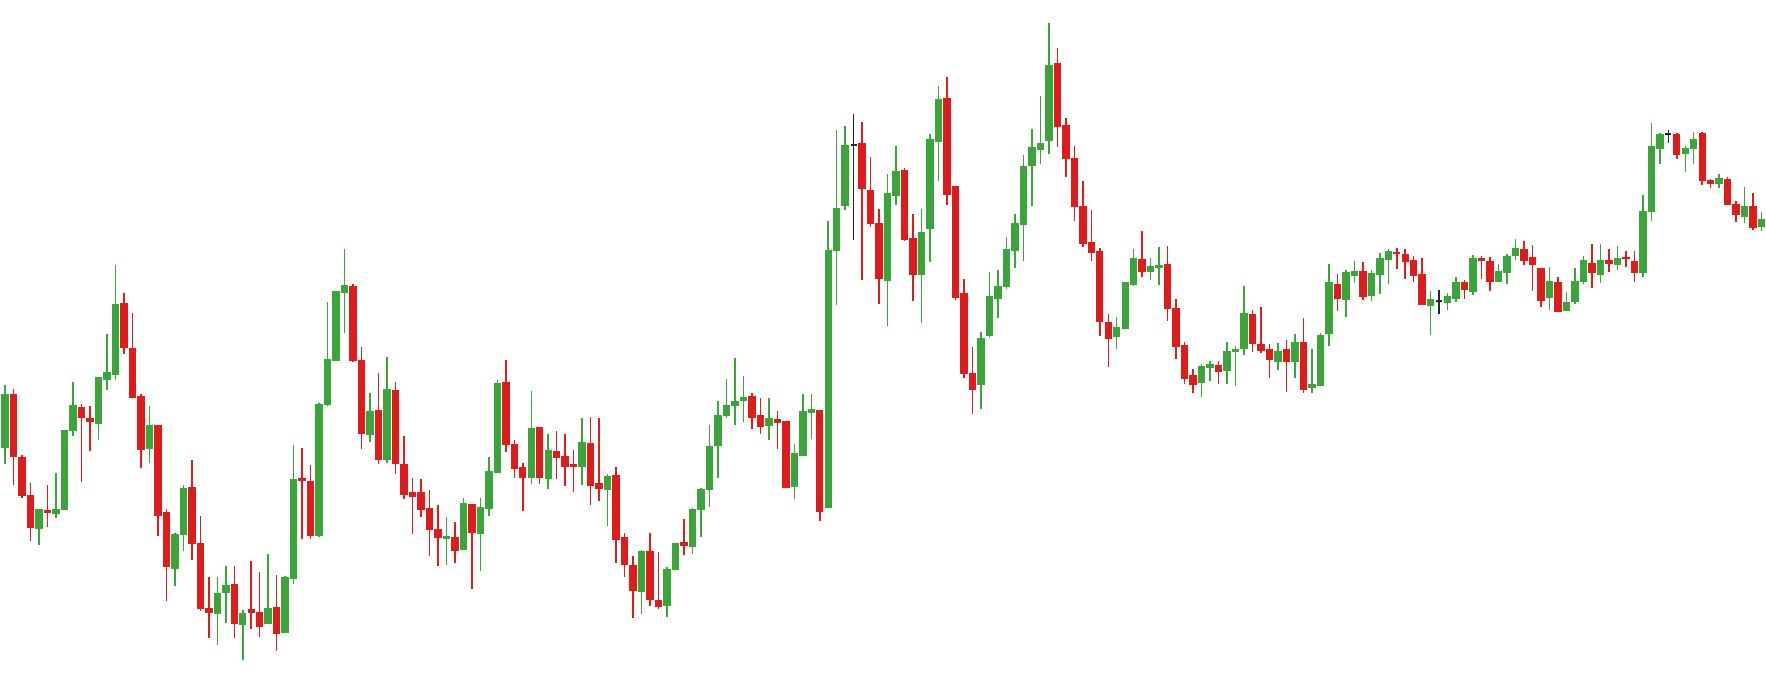buy: (467, 454, 645, 632)
sell: (108, 251, 357, 454), (934, 19, 1062, 218)
